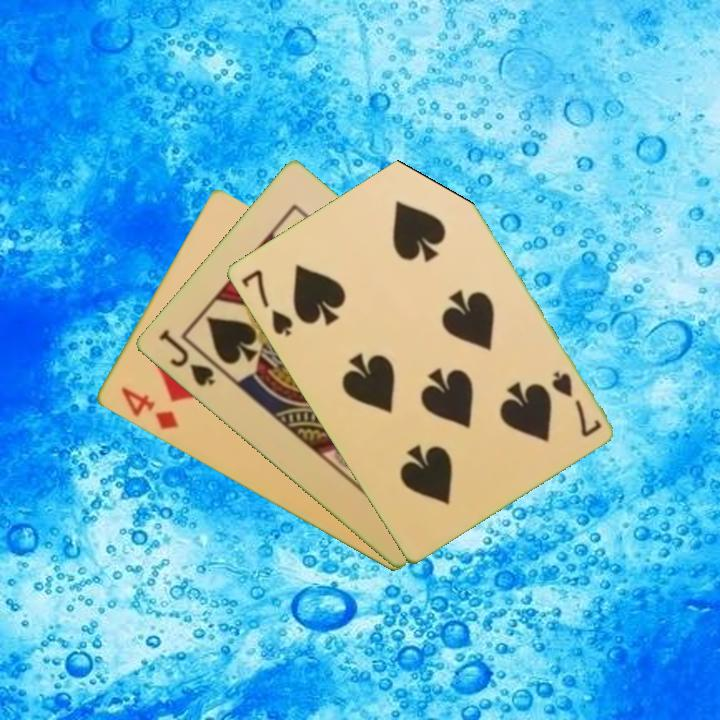4d: (117, 383, 181, 433)
7s: (237, 266, 296, 339), (547, 367, 604, 440)
Js: (154, 326, 218, 390)
